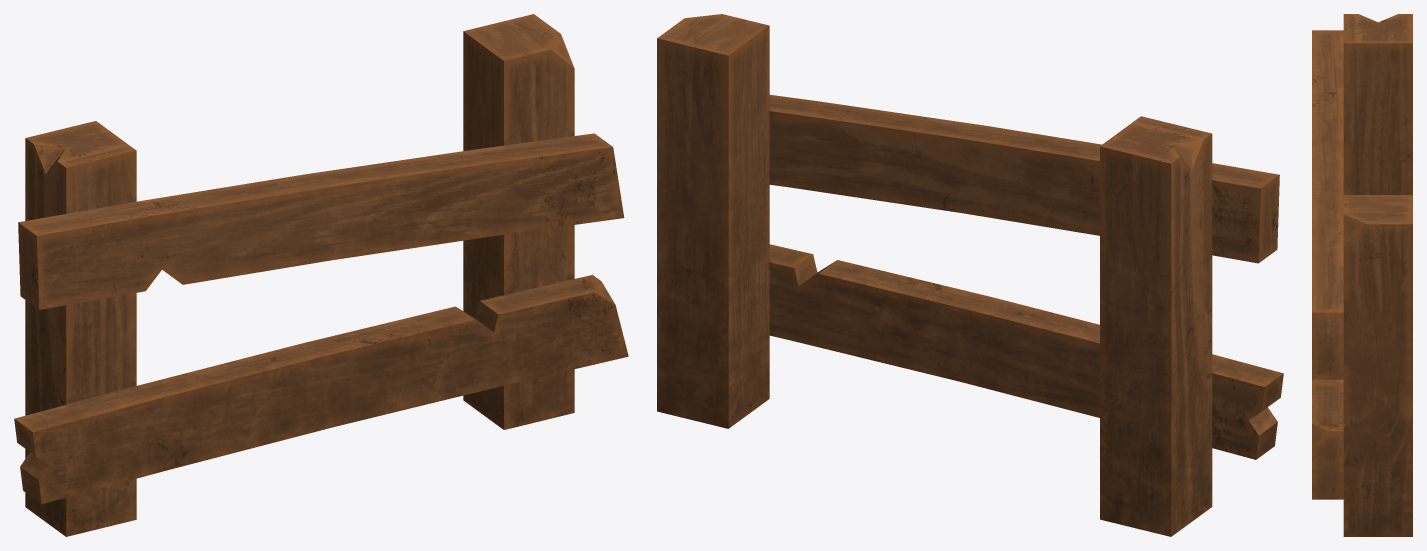
Rendered from FenceTip1.fbx.
3 views of the same model, side by side, from view 1: azimuth 30°, elevation 25°; view 2: azimuth 150°, elevation 25°; view 3: azimuth 270°, elevation 25° (orthographic). The views are drawn at different scales.
Visible parts, largest first — view 1: Fence_Tip_1; view 2: Fence_Tip_1; view 3: Fence_Tip_1.
Boxes of the visible parts, left/top/right/bottom form: Fence_Tip_1: left=14, top=14, right=628, bottom=536; Fence_Tip_1: left=657, top=14, right=1283, bottom=536; Fence_Tip_1: left=1312, top=14, right=1412, bottom=536.
Size of the model in its own units: 220 by 130 by 37.94.
